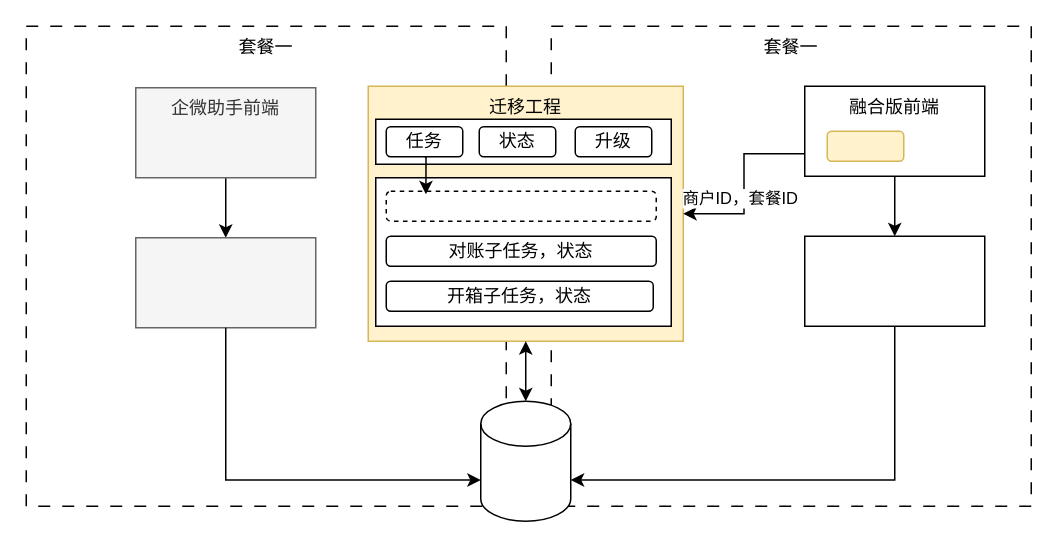
Image size: 1058x548. Some labels were removed from this diagram. Here are the shapes that lost their labels. From the top down, the centre of each, then its label:
At (x=865, y=145): "升级按钮".
At (x=520, y=205): "迁移子任务，状态".
At (x=225, y=282): "企微助手后端".
At (x=894, y=280): "融合版后端".
At (x=525, y=460): "共同库".
